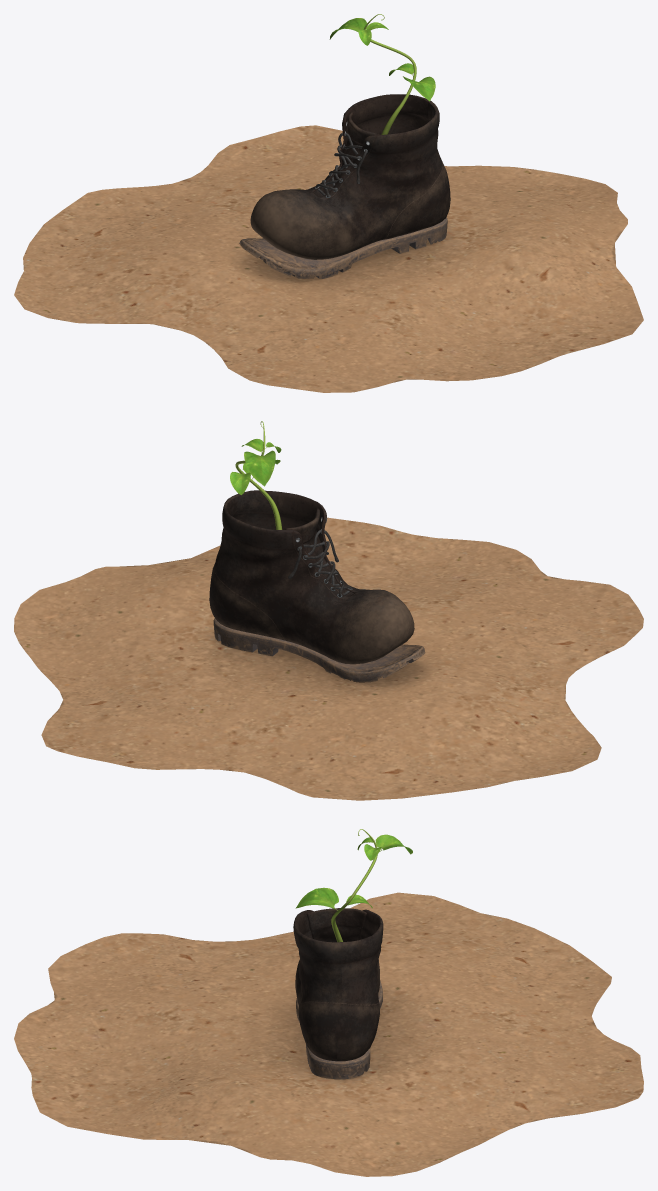
The model's file is wall-e_boot_plants.glb.
The picture shows the model from 3 angles, top to bottom: view 1: azimuth 30°, elevation 25°; view 2: azimuth 150°, elevation 25°; view 3: azimuth 270°, elevation 25°; orthographic projection. The views are drawn at different scales.
Parts seen in each view (by area): view 1: wall-e boot plants; view 2: wall-e boot plants; view 3: wall-e boot plants.
Part boxes in pixels (<box>): wall-e boot plants: <box>14,14,643,392</box>; wall-e boot plants: <box>14,421,643,800</box>; wall-e boot plants: <box>14,829,643,1176</box>.
Bounding box in the file's own units: 0.8454 × 0.3365 × 0.7951.
Materials: 1 (1 with a texture image).
